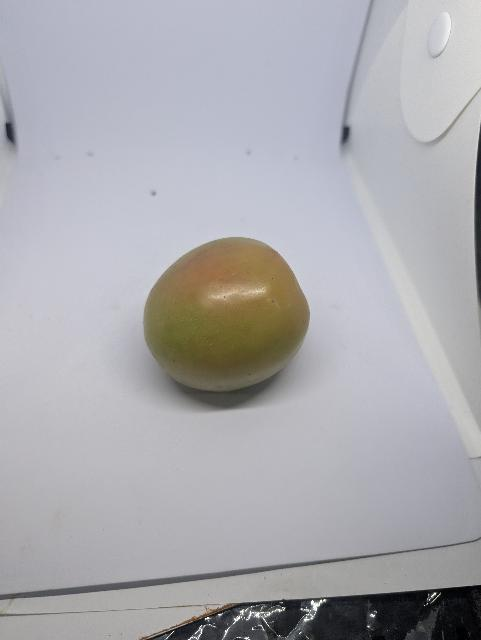breaker: (144, 237, 310, 392)
